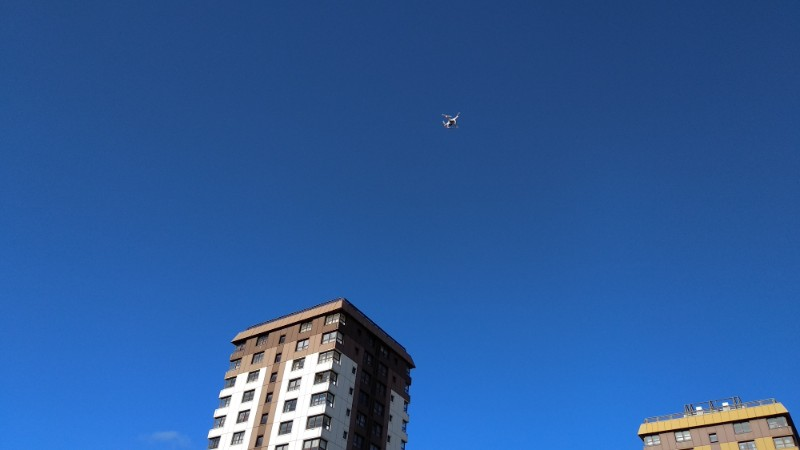drone: (439, 110, 461, 132)
